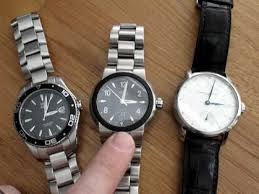clock: (178, 73, 240, 134), (95, 77, 149, 128), (18, 89, 70, 140)
